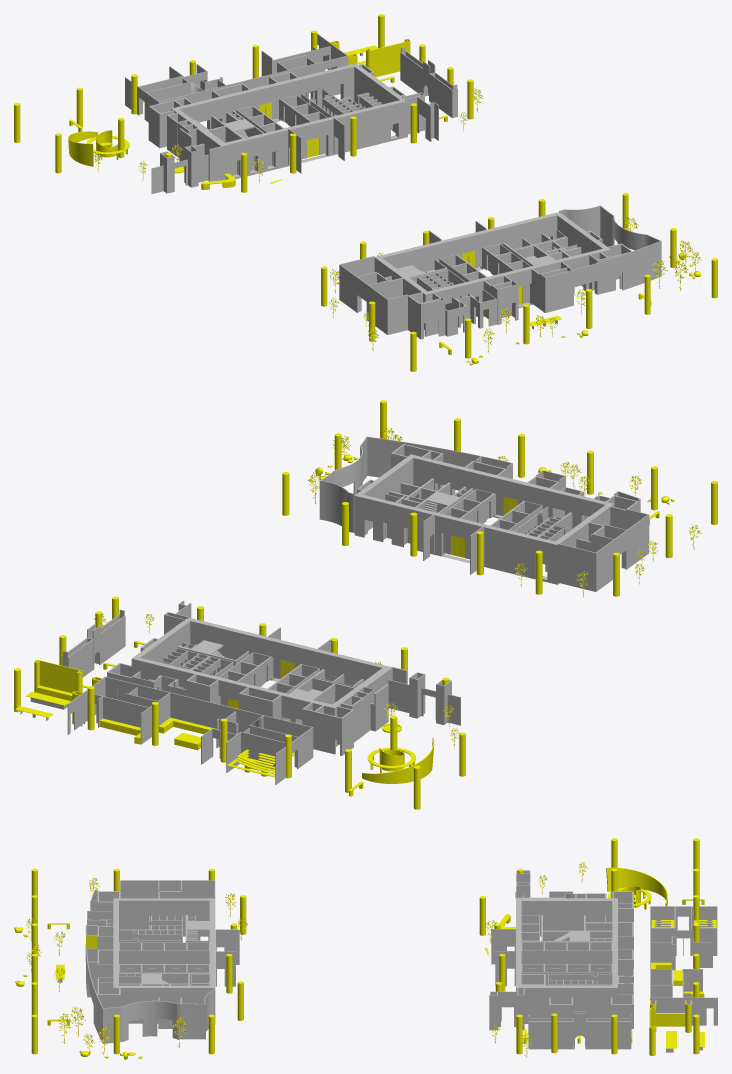
File: sm_hana_building_15f_in.glb
3 renders of one model, top to bottom at view 1: azimuth 30°, elevation 25°; view 2: azimuth 150°, elevation 25°; view 3: azimuth 270°, elevation 25°, orthographic. The views are drawn at different scales.
Visible parts, largest first — view 1: sm_hana_building_15f_in; view 2: sm_hana_building_15f_in; view 3: sm_hana_building_15f_in.
Boxes of the visible parts, x1=… form: sm_hana_building_15f_in: x1=14, y1=14, x2=717, y2=371; sm_hana_building_15f_in: x1=14, y1=400, x2=717, y2=809; sm_hana_building_15f_in: x1=14, y1=838, x2=717, y2=1059.
Bounding box in the file's own units: 60.98 × 6.05 × 97.91.
Materials: 11 (9 with a texture image).
